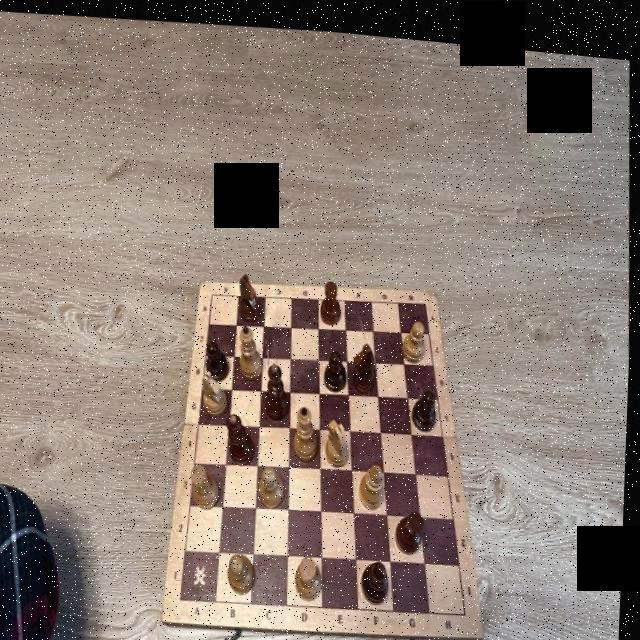chess-table-corners: (464, 598, 473, 612), (423, 288, 431, 302), (180, 589, 188, 602), (210, 285, 218, 297)
